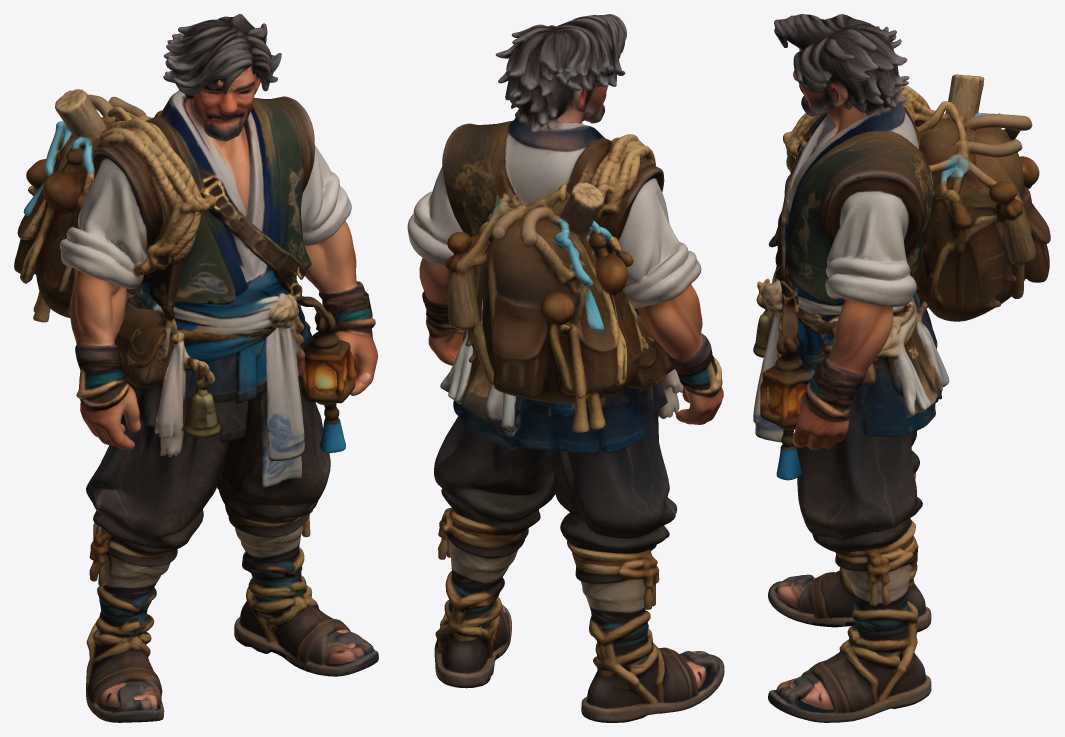
The model's file is Ong_Do.glb.
The picture shows the model from 3 angles, left to right: view 1: azimuth 30°, elevation 25°; view 2: azimuth 150°, elevation 25°; view 3: azimuth 270°, elevation 25°; orthographic projection.
Visible parts, largest first — view 1: world; view 2: world; view 3: world.
Part boxes in pixels (bbox=[...]): world: bbox=[14, 14, 378, 722]; world: bbox=[407, 14, 724, 722]; world: bbox=[753, 14, 1050, 722].
Size of the model in its own units: 0.4714 by 1 by 0.4197.
Materials: 1 (1 with a texture image).
